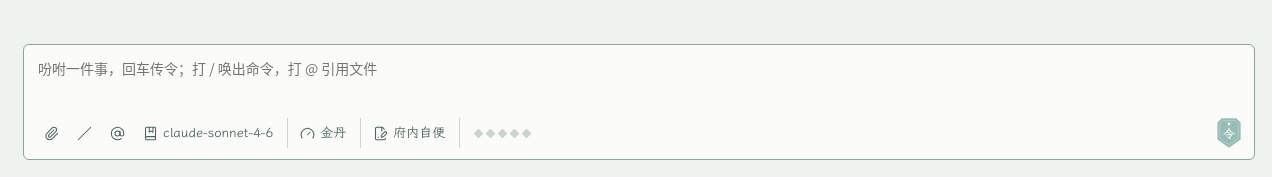
it: Composer component (P1-15 & P2-12) › filters slash commands on '/' input and runs the chosen command on Enter
Type "/rev" into the text box at (639,82), box [36,55,1242,109]
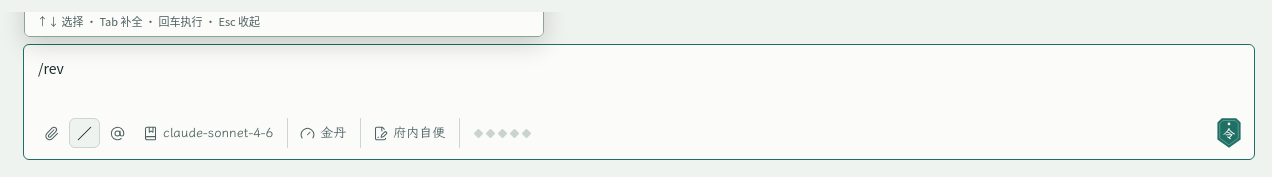
Press Enter
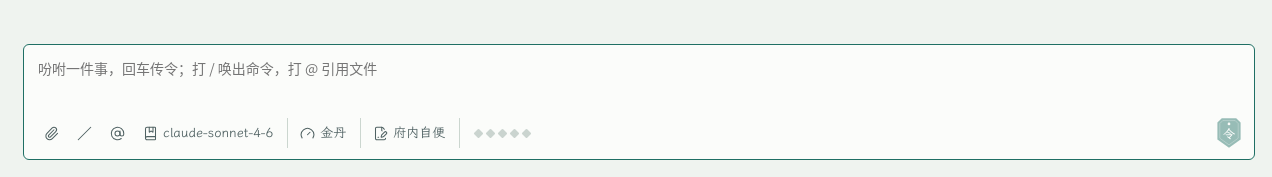
Expected: the text box is empty, [36,55,1242,109]
